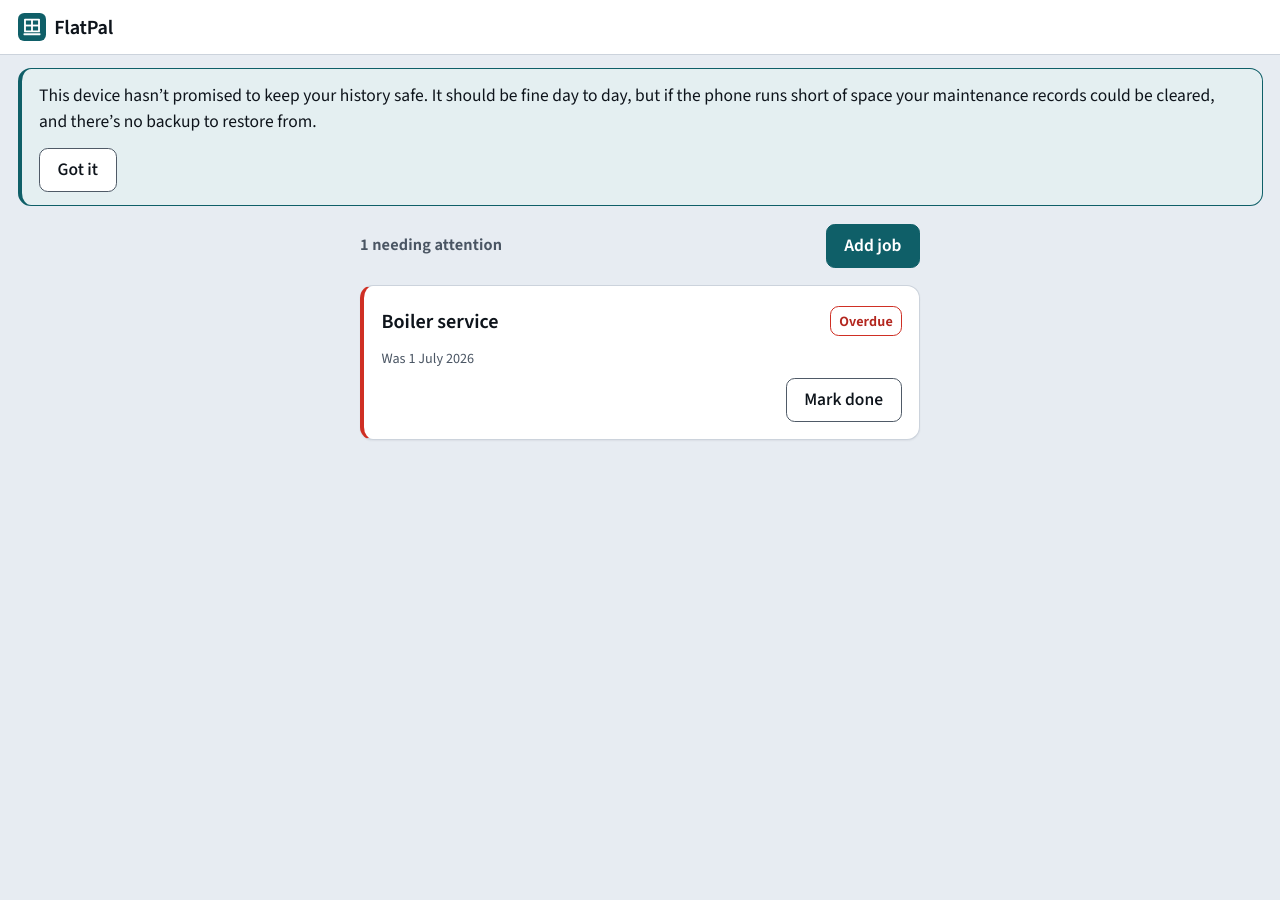
it: correcting a job › keeps every completion already recorded
Click the button "Boiler service": (440, 321) [382, 299, 499, 343]
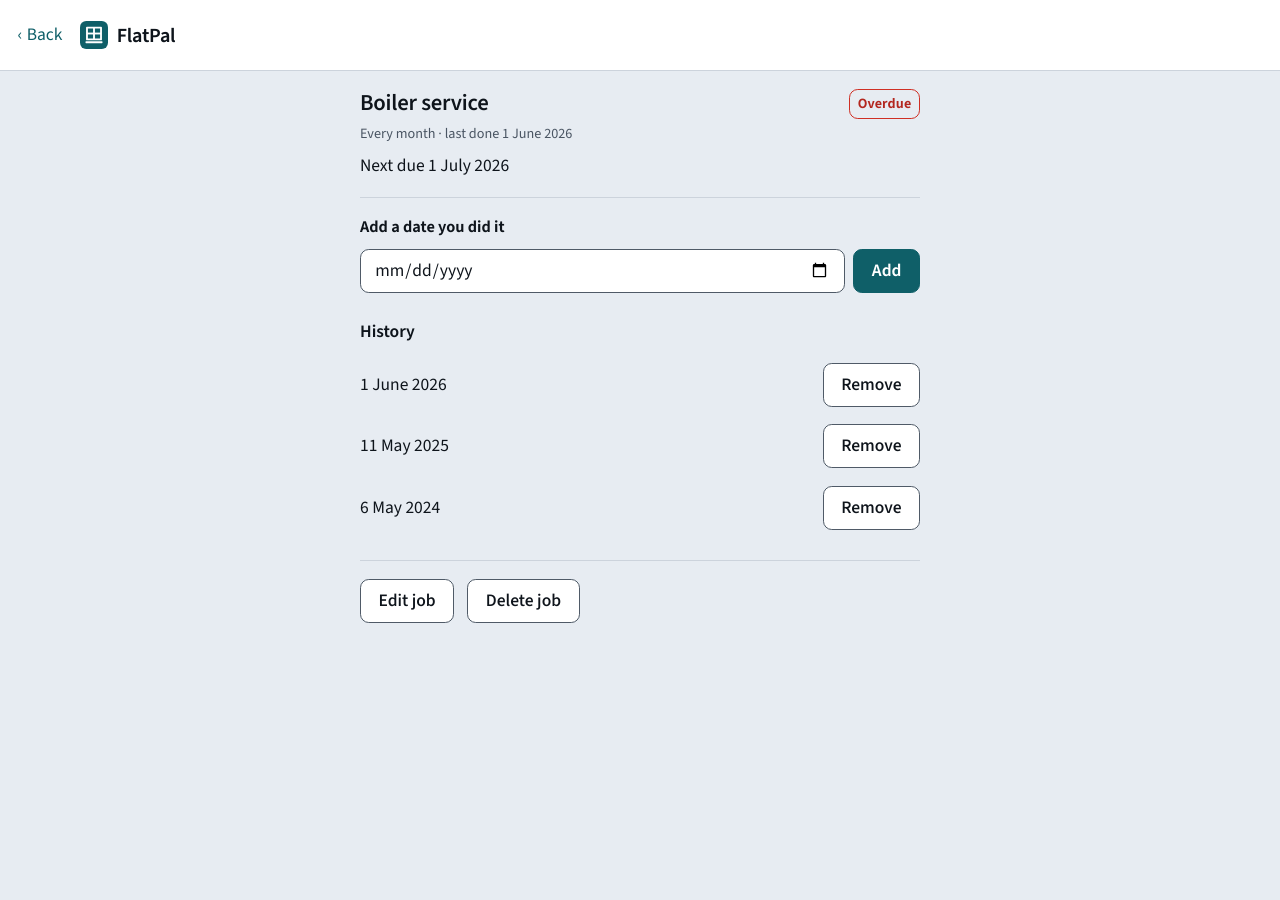
Click the button "Edit job": (407, 601) [360, 579, 454, 623]
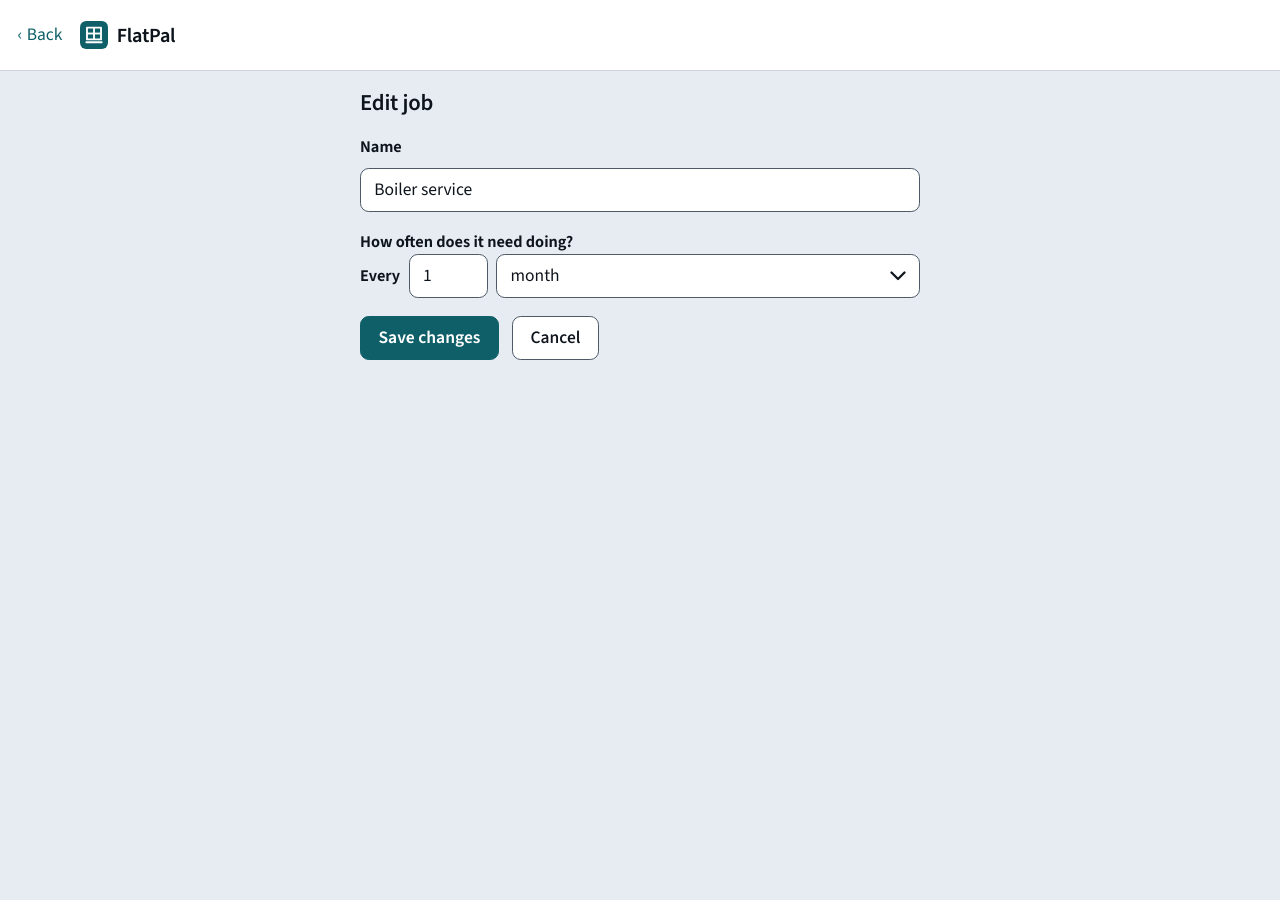
Expected: the heading "Edit job" is shown, [360, 87, 433, 119]
Replace the text in the field labelled "Name" with "Boiler": (640, 190) [360, 168, 920, 212]
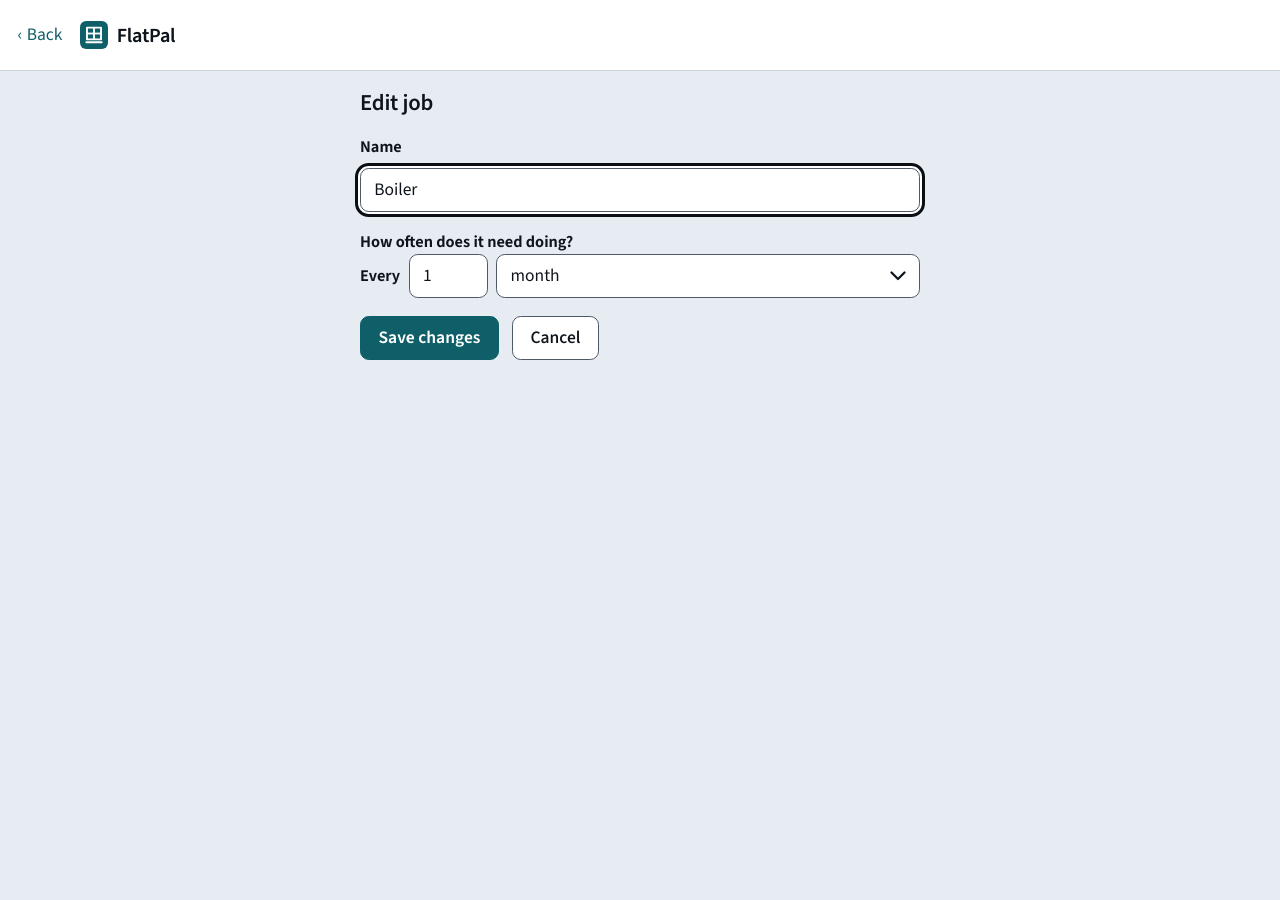
Click the button "Save changes": (429, 338) [360, 316, 499, 360]
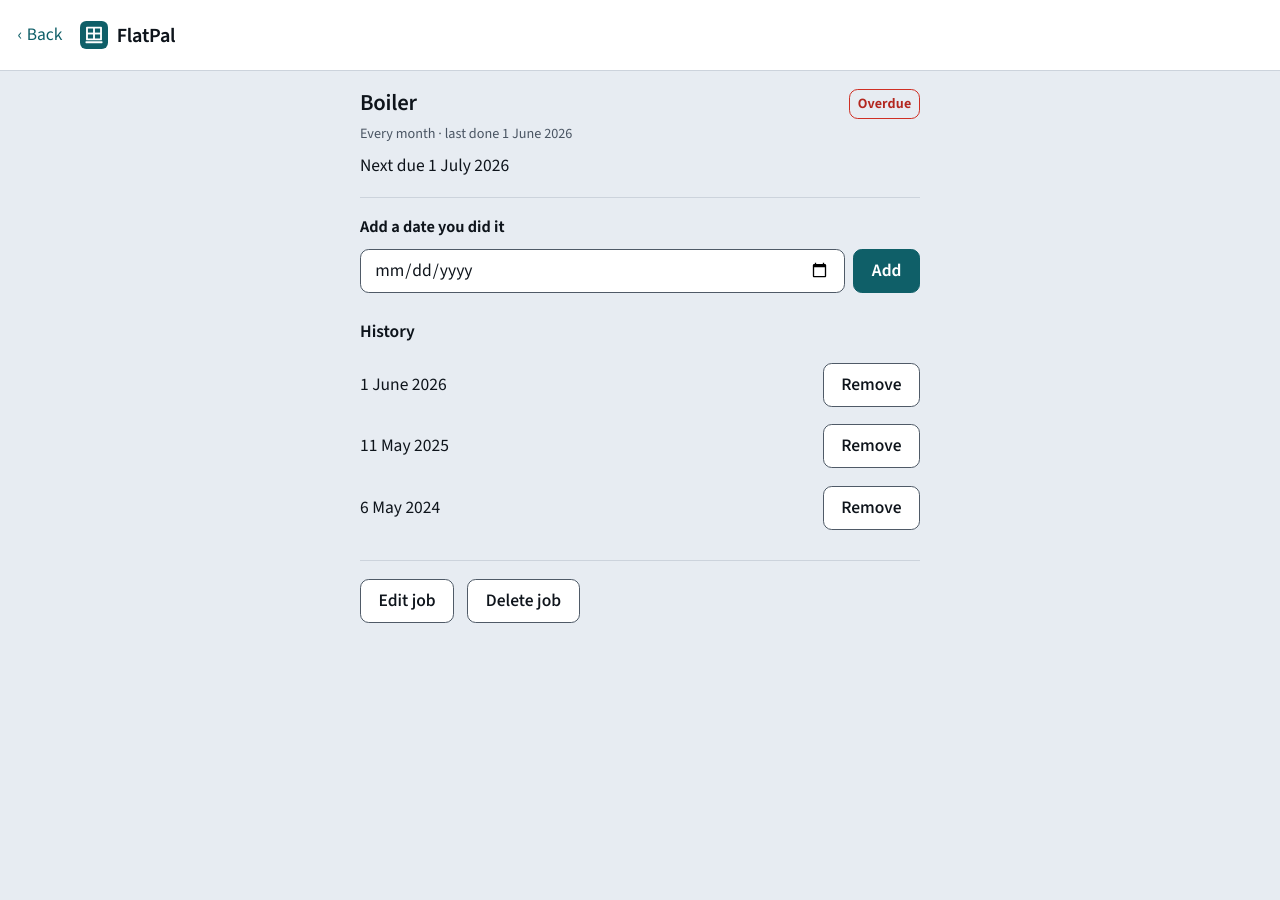
Expected: the heading "Boiler" is shown, [360, 90, 417, 118]
